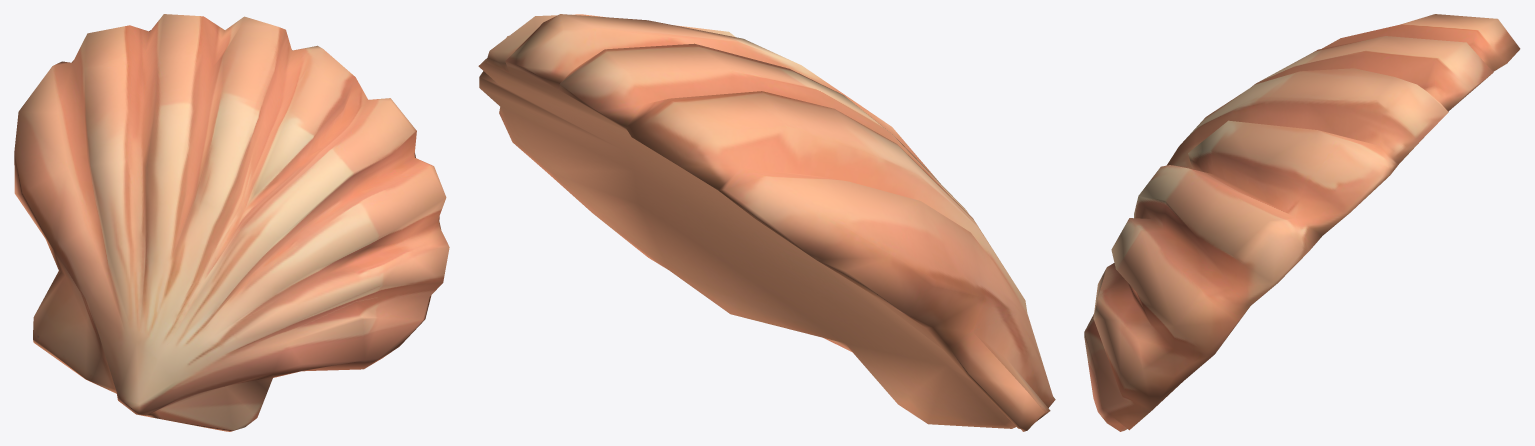
3 views of the same model, side by side, from view 1: azimuth 30°, elevation 25°; view 2: azimuth 150°, elevation 25°; view 3: azimuth 270°, elevation 25° (orthographic). The views are drawn at different scales.
Visible parts, largest first — view 1: coast-shell; view 2: coast-shell; view 3: coast-shell.
Part boxes in pixels (x1,y1,x2,y2): coast-shell: (14, 14, 449, 431); coast-shell: (478, 14, 1055, 431); coast-shell: (1084, 14, 1520, 431).
Size of the model in its own units: 0.2407 by 0.1879 by 0.1898.
1 material, 1 textured.
